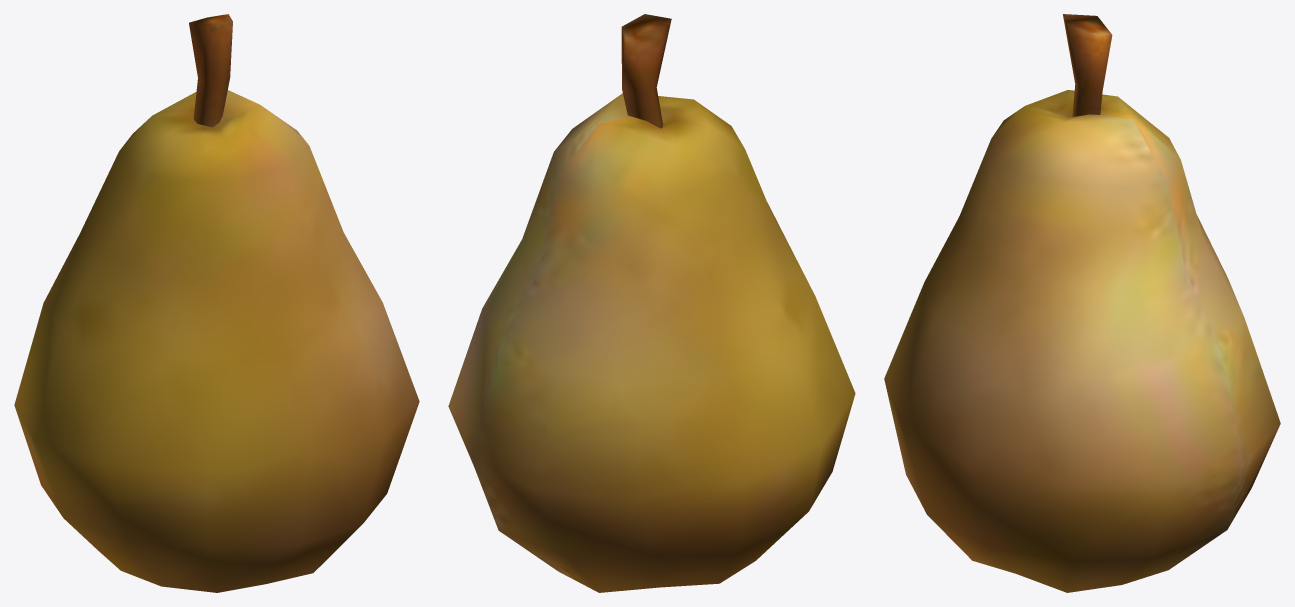
The model's file is SM_pear_00.gltf.
The picture shows the model from 3 angles, left to right: view 1: azimuth 30°, elevation 25°; view 2: azimuth 150°, elevation 25°; view 3: azimuth 270°, elevation 25°; orthographic projection.
Parts seen in each view (by area): view 1: SM_pear_00; view 2: SM_pear_00; view 3: SM_pear_00.
Boxes of the visible parts, x1,y1,x2,y2 form: SM_pear_00: [14, 14, 419, 592]; SM_pear_00: [448, 14, 855, 592]; SM_pear_00: [884, 14, 1280, 592].
Bounding box in the file's own units: 0.1331 × 0.1977 × 0.1307.
Materials: 1 (1 with a texture image).
